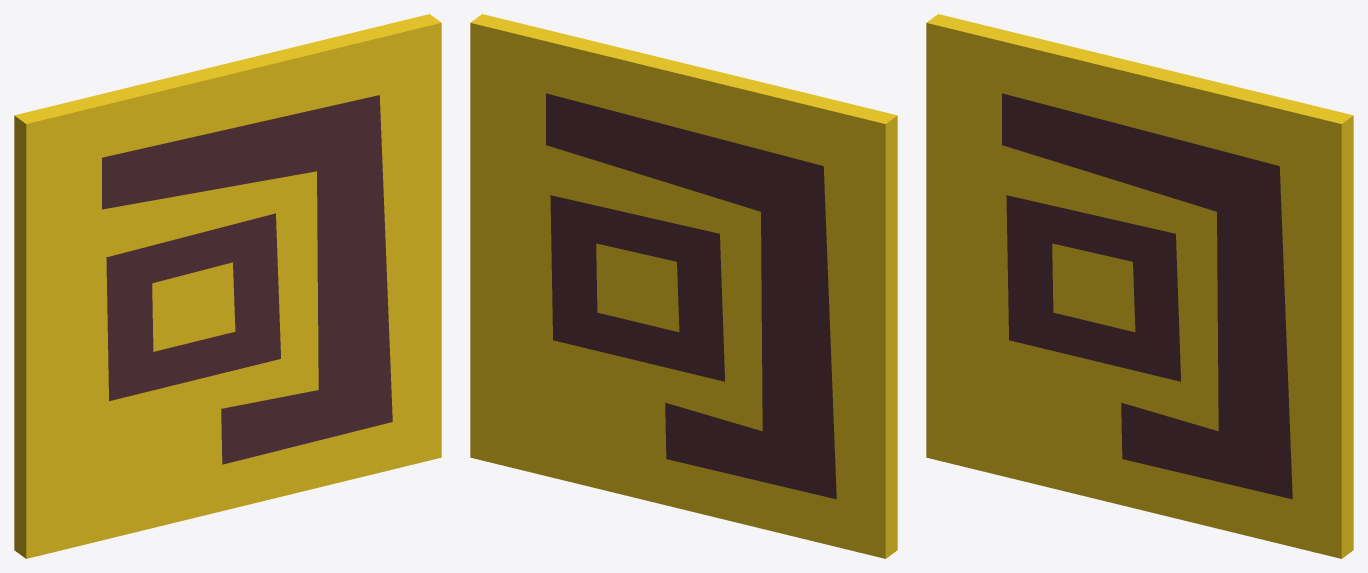
File: scifi-scifi-sign-type-c.glb
3 renders of one model, left to right at view 1: azimuth 30°, elevation 25°; view 2: azimuth 150°, elevation 25°; view 3: azimuth 330°, elevation 25°, orthographic.
Parts seen in each view (by area): view 1: scifi-sign-type-c; view 2: scifi-sign-type-c; view 3: scifi-sign-type-c.
Part boxes in pixels (x1,y1,x2,y2): scifi-sign-type-c: (14,14,441,558); scifi-sign-type-c: (470,14,897,558); scifi-sign-type-c: (926,14,1353,558).
Bounding box in the file's own units: 1 × 1 × 0.05.
